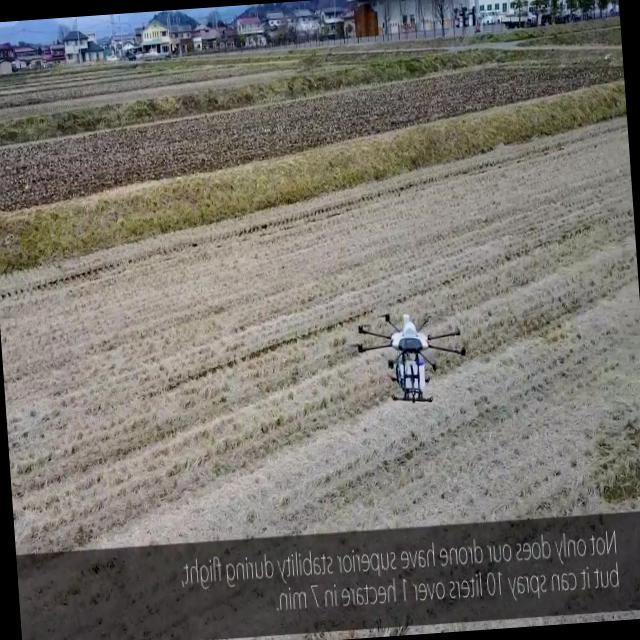drone: (348, 302, 470, 408)
